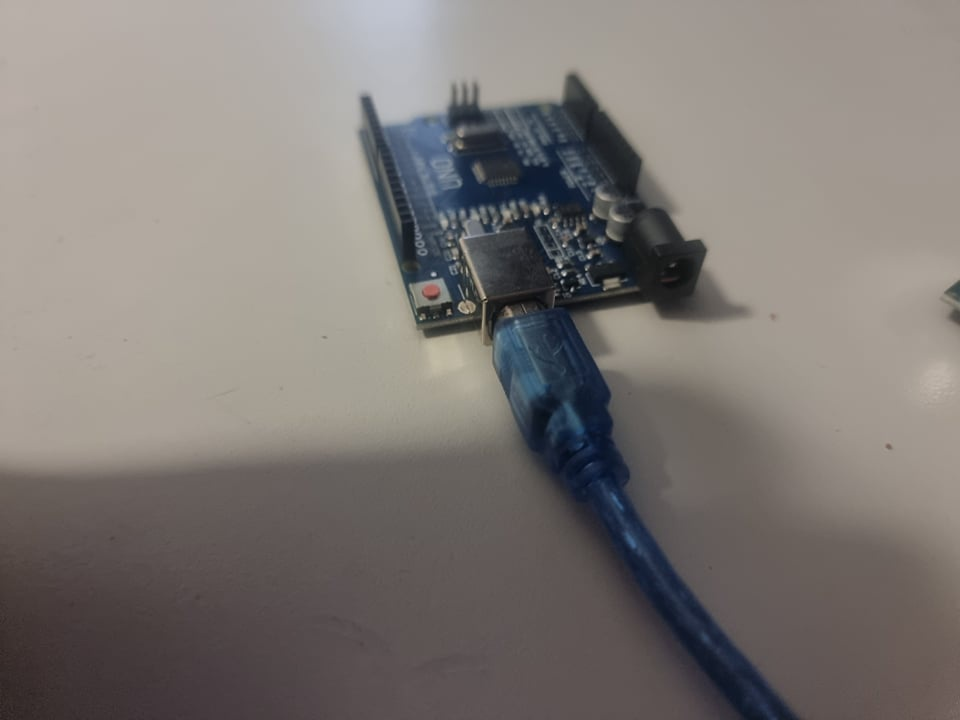UNO R3: (348, 67, 715, 329)
